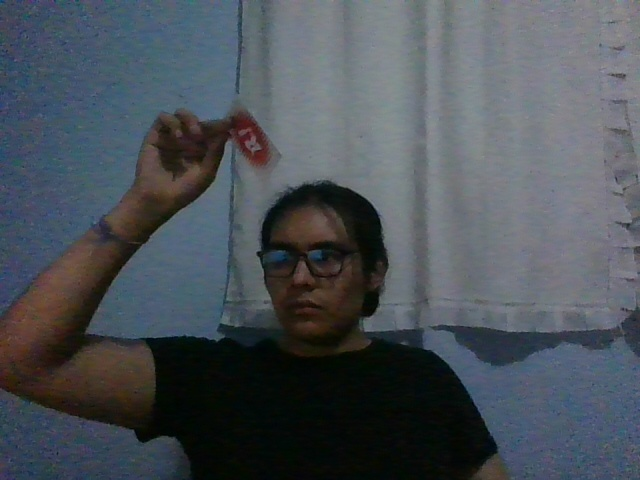tarjeta: (225, 92, 282, 181)
